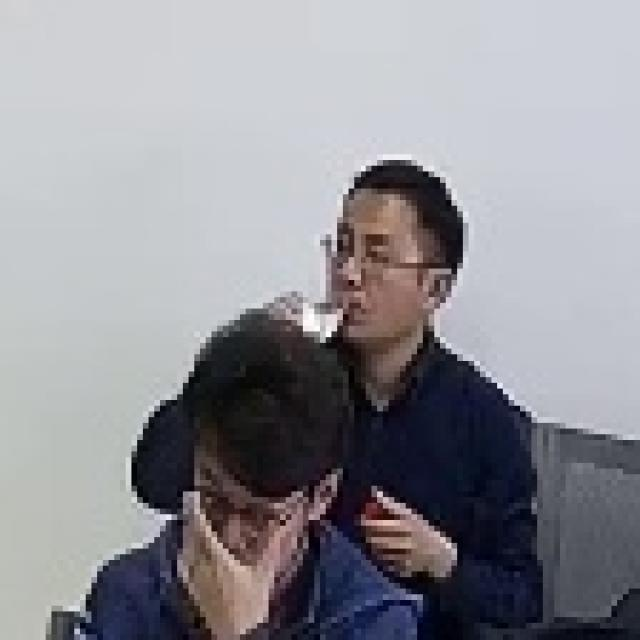drink: (267, 143, 555, 621)
trance: (110, 276, 430, 640)
